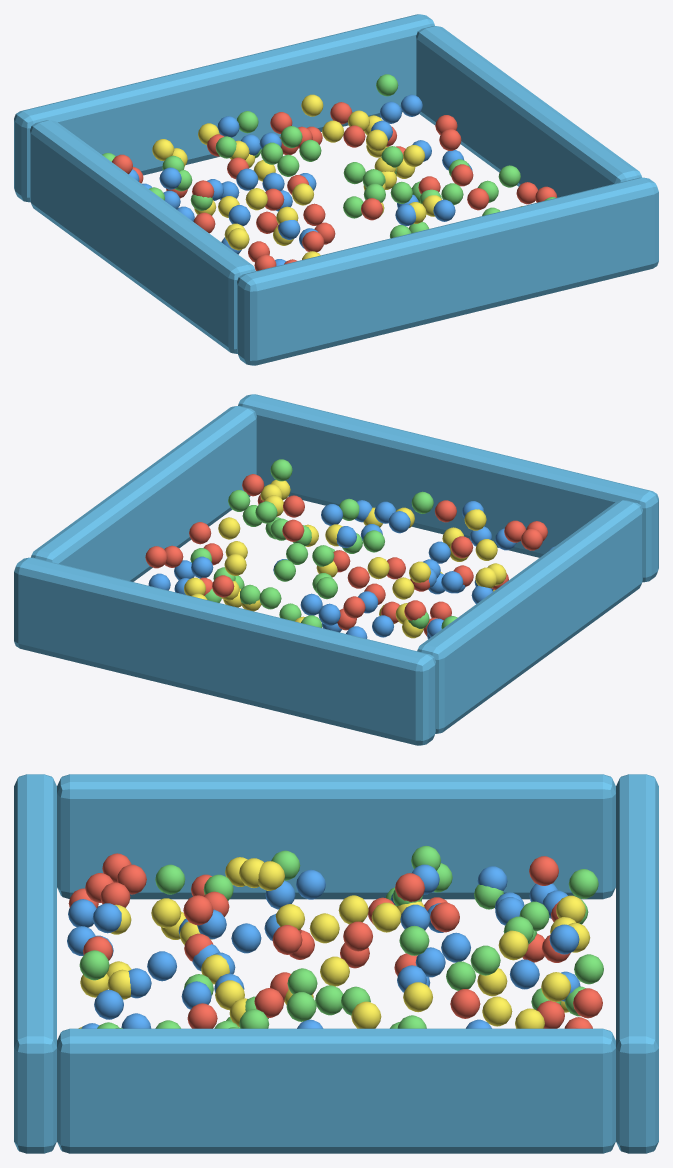
Rendered from ball_pit.glb.
The picture shows the model from 3 angles, top to bottom: view 1: azimuth 30°, elevation 25°; view 2: azimuth 150°, elevation 25°; view 3: azimuth 270°, elevation 25°; orthographic projection. The views are drawn at different scales.
Visible parts, largest first — view 1: ball_pit; view 2: ball_pit; view 3: ball_pit.
Boxes of the visible parts, <box> form: ball_pit: <box>14,14,658,365</box>; ball_pit: <box>14,394,658,745</box>; ball_pit: <box>14,774,658,1153</box>.
Bounding box in the file's own units: 3 × 0.6 × 3.
